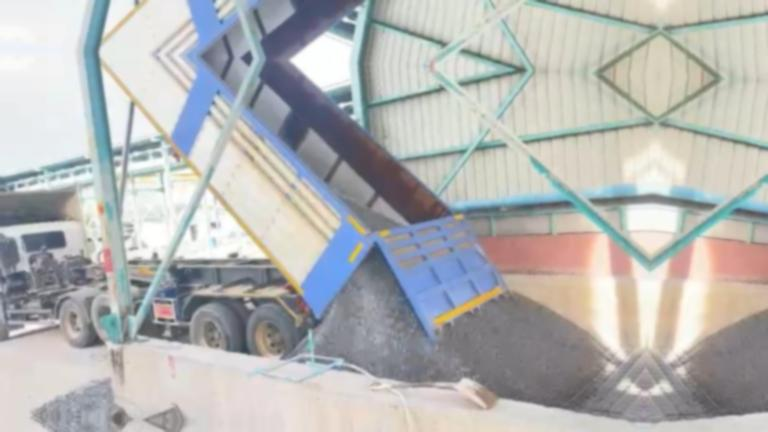gravel: (314, 249, 609, 406), (31, 379, 127, 419), (338, 189, 399, 231)
